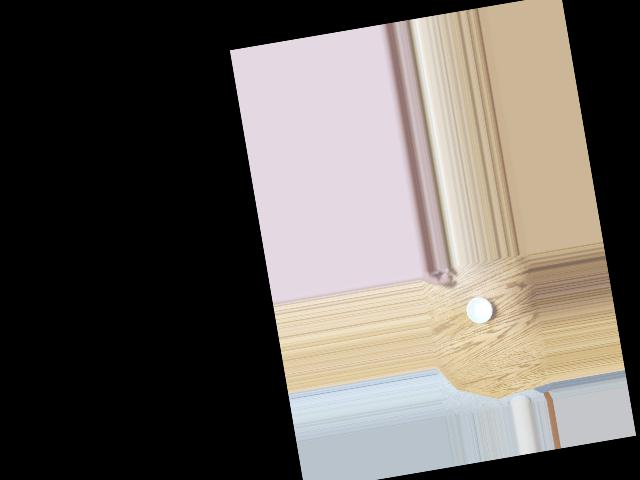cotage: (461, 293, 494, 327)
